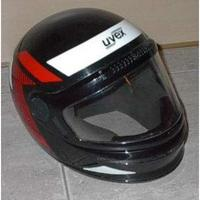helmet: (10, 12, 188, 178)
